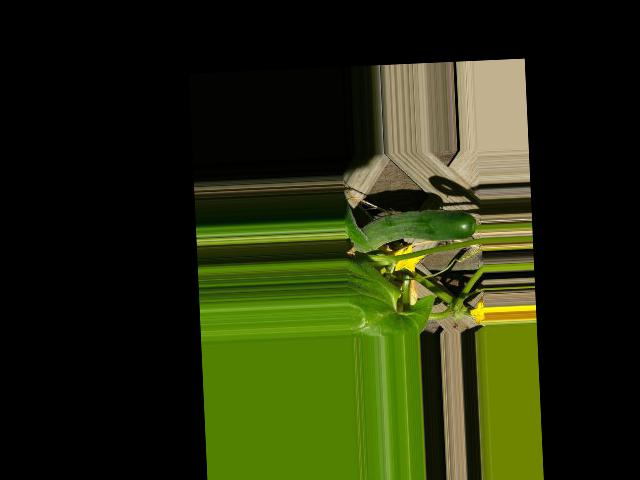cucumber: (344, 207, 476, 253)
